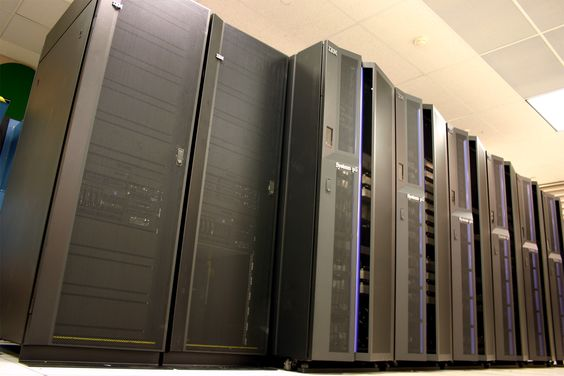ibm-server: (315, 34, 398, 370), (443, 120, 495, 369), (511, 169, 554, 364)
